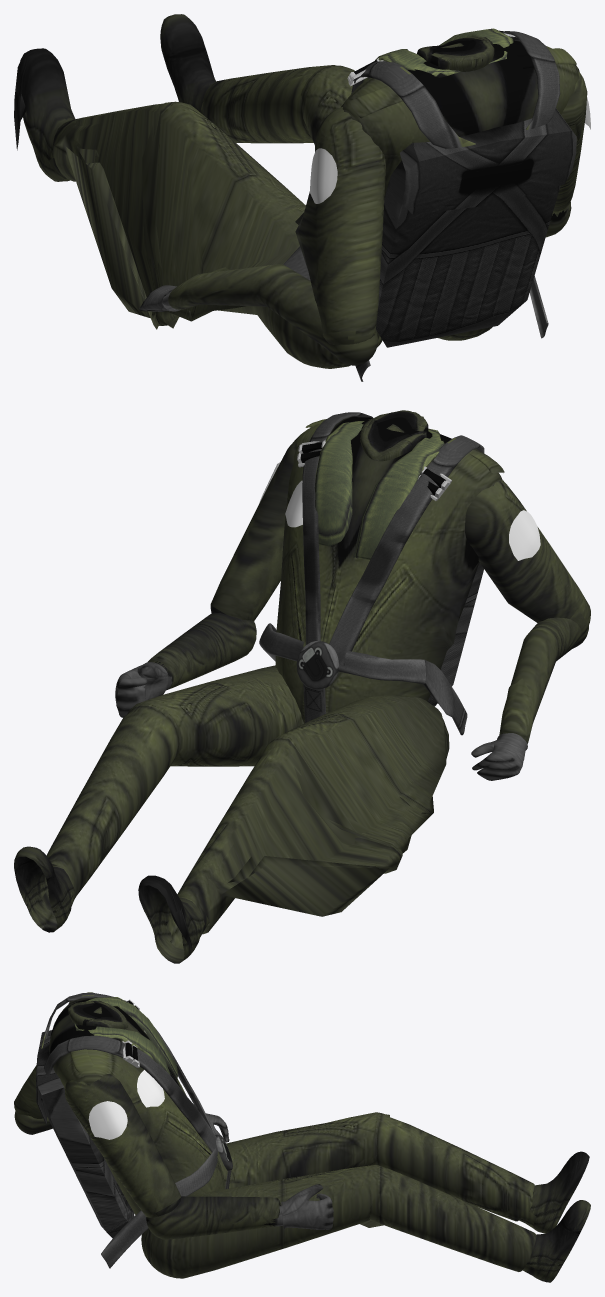
The model's file is f16_pilot.glb.
3 views of the same model, one above another, from view 1: azimuth 30°, elevation 25°; view 2: azimuth 150°, elevation 25°; view 3: azimuth 270°, elevation 25° (orthographic). The views are drawn at different scales.
Visible parts, largest first — view 1: pilot_body; view 2: pilot_body; view 3: pilot_body.
Boxes of the visible parts, x1,y1,x2,y2 form: pilot_body: (14, 14, 590, 381); pilot_body: (14, 410, 590, 963); pilot_body: (14, 992, 590, 1282).
Bounding box in the file's own units: 0.7625 × 0.7102 × 1.4.
Materials: 9 (5 with a texture image).
